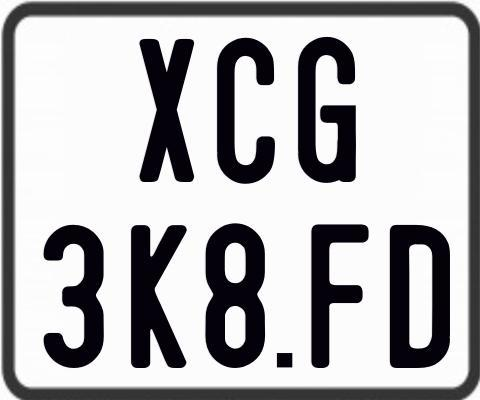3: (43, 225, 104, 369)
8: (205, 220, 266, 370)
C: (216, 38, 280, 186)
D: (389, 222, 449, 369)
F: (310, 222, 372, 372)
G: (297, 37, 359, 189)
K: (130, 224, 188, 370)
X: (139, 36, 198, 179)
